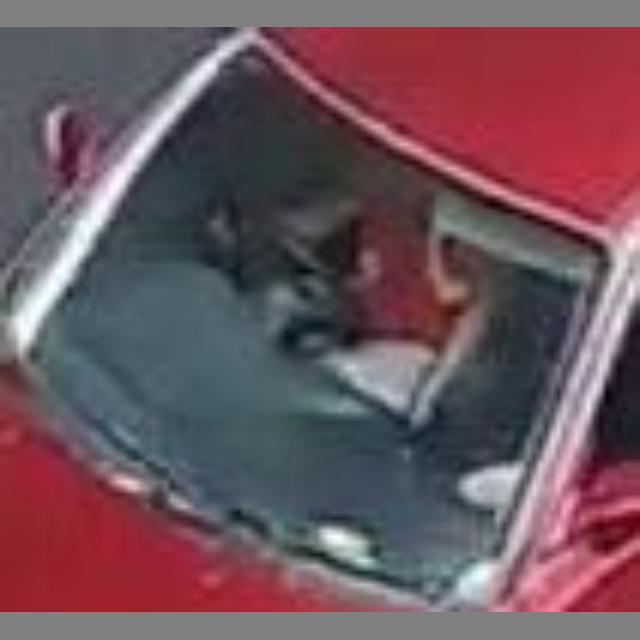tidak-pakai: (272, 142, 495, 395)
